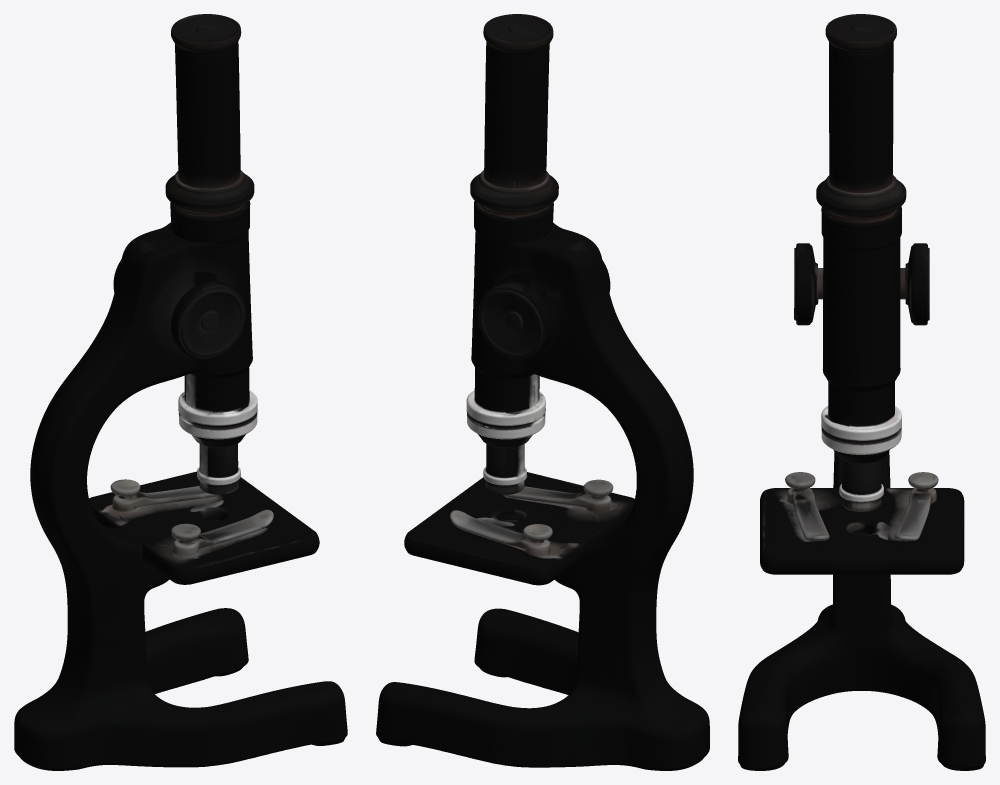
File: 澳门镜湖医院用显微镜.glb
3 renders of one model, left to right at view 1: azimuth 30°, elevation 25°; view 2: azimuth 150°, elevation 25°; view 3: azimuth 270°, elevation 25°, orthographic.
Visible parts, largest first — view 1: texture_pbr_v128; view 2: texture_pbr_v128; view 3: texture_pbr_v128.
Part boxes in pixels (<box>): texture_pbr_v128: <box>14,14,347,770</box>; texture_pbr_v128: <box>376,14,709,770</box>; texture_pbr_v128: <box>738,14,985,770</box>.
Size of the model in its own units: 0.4461 by 1.08 by 0.3449.
1 material, 1 textured.
